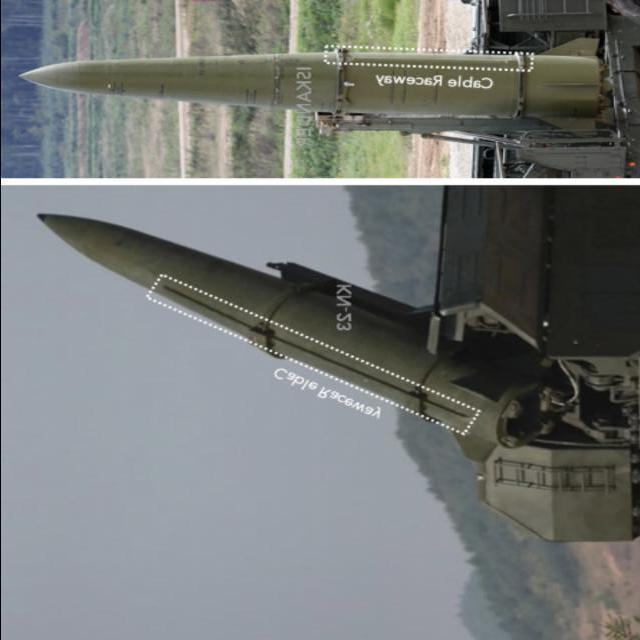missile: (30, 199, 571, 465), (18, 45, 616, 130)
